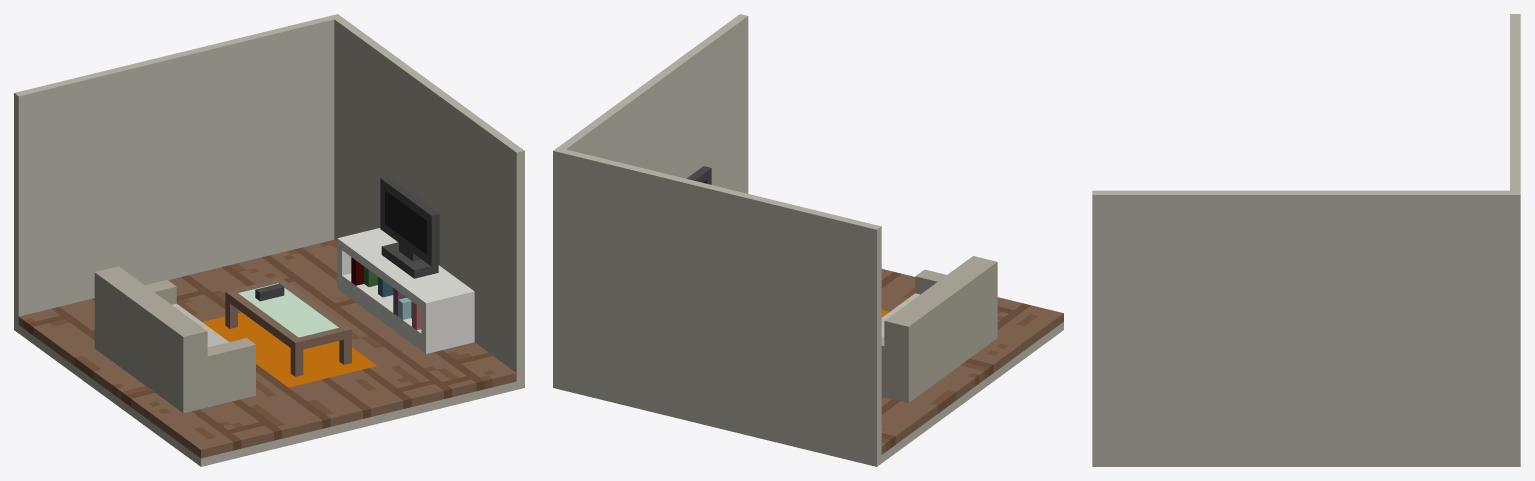
File: living.glb
3 renders of one model, left to right at view 1: azimuth 30°, elevation 25°; view 2: azimuth 150°, elevation 25°; view 3: azimuth 270°, elevation 25°, orthographic. The views are drawn at different scales.
Parts seen in each view (by area): view 1: Object_2; view 2: Object_2; view 3: Object_2.
Part boxes in pixels (bbox=[...]): Object_2: bbox=[14, 14, 524, 466]; Object_2: bbox=[553, 14, 1063, 466]; Object_2: bbox=[1092, 14, 1520, 466].
Bounding box in the file's own units: 4 × 2.8 × 4.
1 material, 1 textured.
